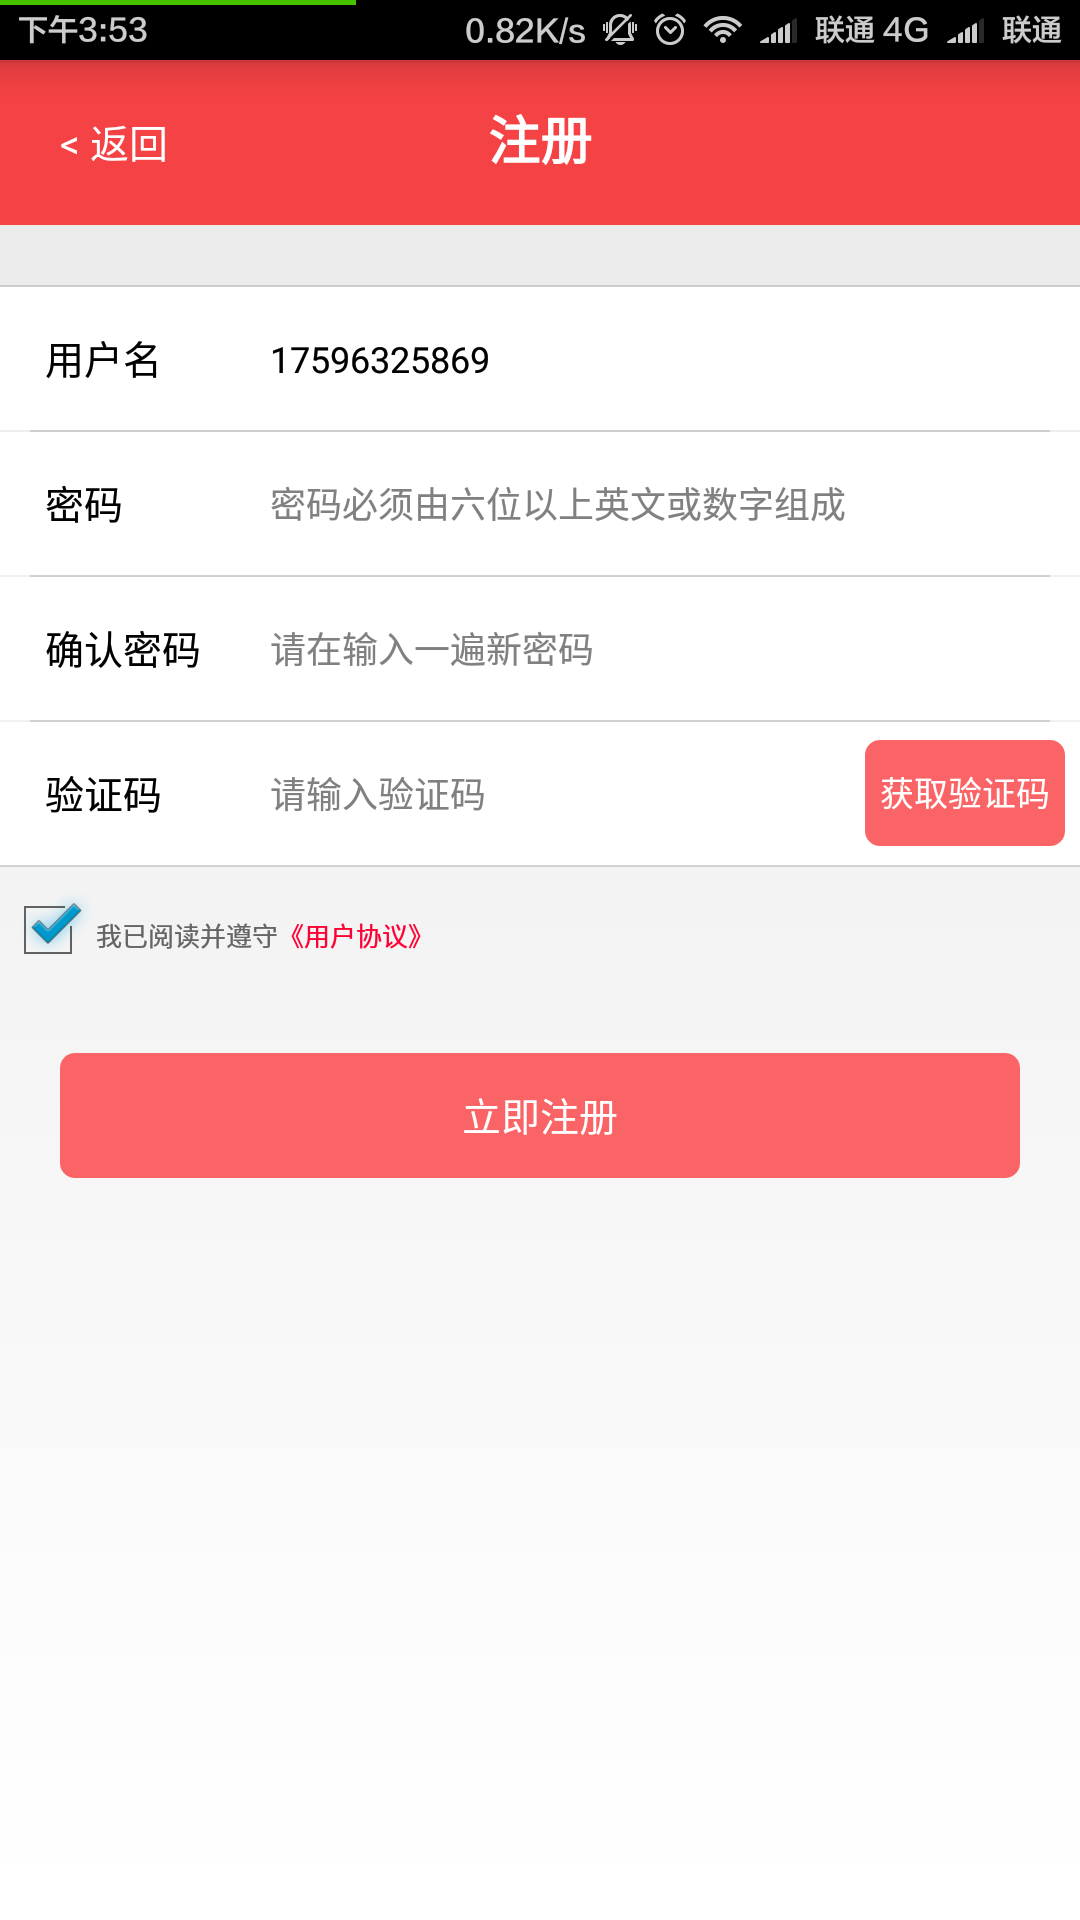checkbox: (8, 891, 435, 982)
